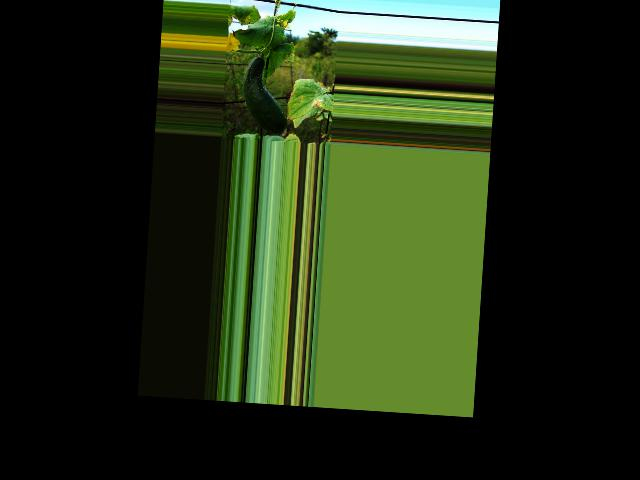cucumber: (240, 54, 291, 134)
